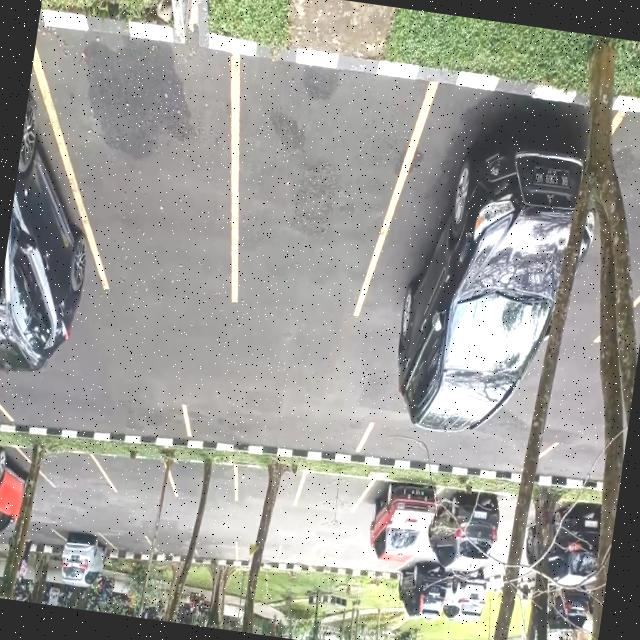empty: (222, 61, 414, 340), (75, 41, 258, 314), (0, 376, 191, 448), (185, 400, 370, 462), (293, 469, 371, 522), (101, 452, 175, 502), (36, 448, 105, 494), (234, 464, 302, 510), (170, 458, 239, 502), (104, 528, 152, 566), (234, 536, 280, 570), (318, 542, 366, 574), (276, 540, 322, 572), (194, 534, 238, 567)
occupied: (380, 81, 596, 369), (0, 25, 114, 311), (362, 478, 441, 554), (0, 442, 30, 533), (59, 528, 110, 578)
